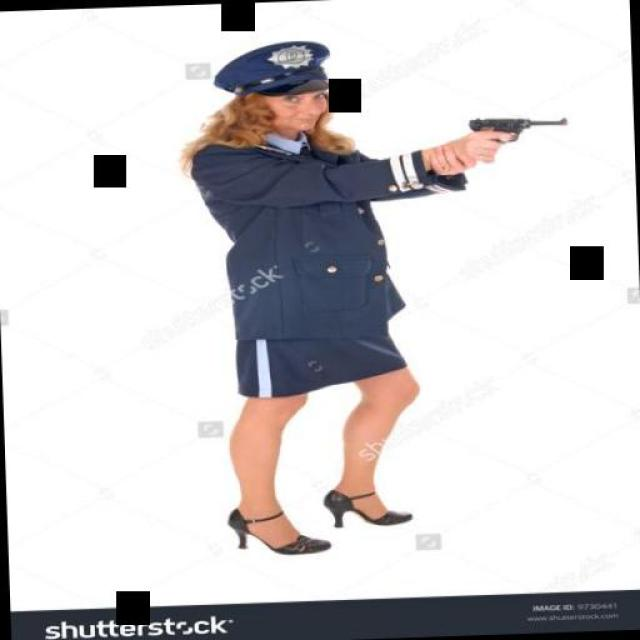gun: (466, 112, 569, 144)
